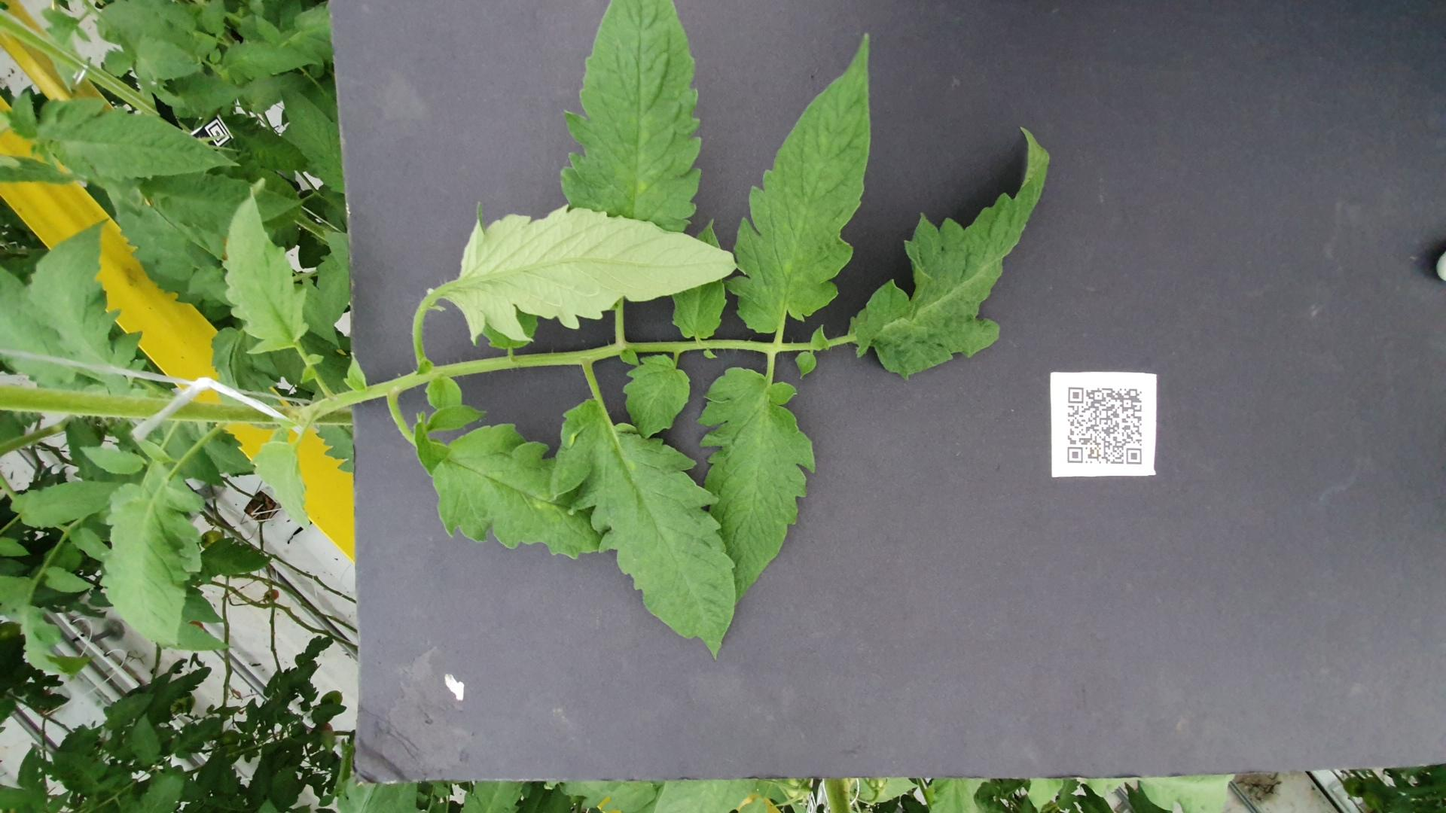Healthy: (772, 477, 1224, 591), (274, 308, 737, 412), (854, 408, 1388, 490), (827, 250, 1090, 415), (1030, 314, 1446, 395), (448, 232, 727, 336), (380, 391, 796, 459), (301, 56, 620, 115), (787, 15, 1061, 81), (1120, 29, 1280, 135), (817, 124, 1131, 175), (1026, 90, 1138, 177), (1102, 157, 1299, 193), (668, 349, 817, 389), (501, 140, 663, 174), (507, 5, 591, 67), (1295, 124, 1373, 179), (415, 112, 492, 154), (601, 44, 656, 83), (393, 25, 441, 54)
